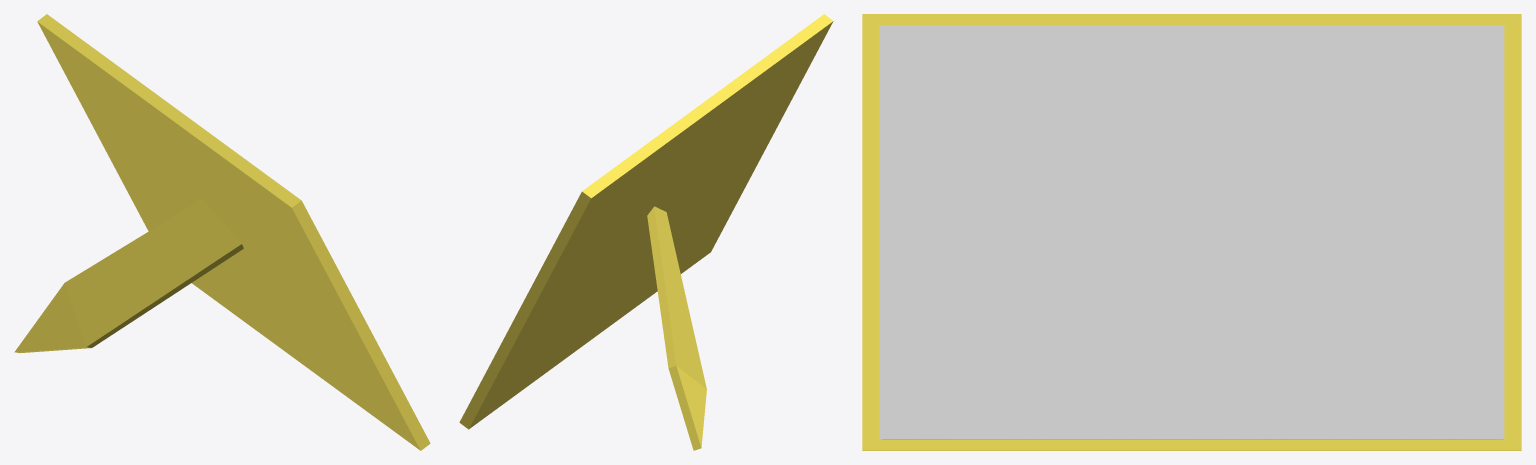
The model's file is PhotoFrame.fbx.
3 views of the same model, side by side, from view 1: azimuth 30°, elevation 25°; view 2: azimuth 150°, elevation 25°; view 3: azimuth 270°, elevation 25° (orthographic). The views are drawn at different scales.
Parts seen in each view (by area): view 1: 큐브; view 2: 큐브; view 3: 큐브.
Boxes of the visible parts, bbox=[...] form: 큐브: bbox=[14, 14, 430, 450]; 큐브: bbox=[459, 14, 833, 450]; 큐브: bbox=[862, 14, 1521, 450].
Size of the model in its own units: 1.64 by 2.18 by 3.48.
